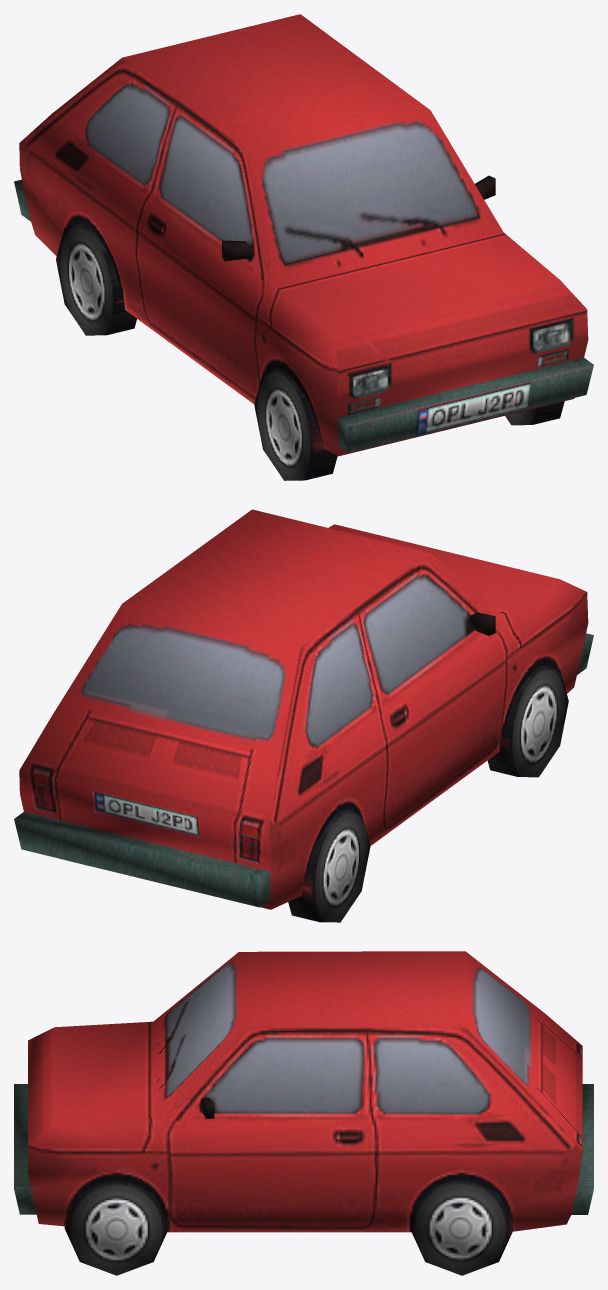
The model's file is fiat_126_psx_style_-_free_download.glb.
The picture shows the model from 3 angles, top to bottom: view 1: azimuth 30°, elevation 25°; view 2: azimuth 150°, elevation 25°; view 3: azimuth 270°, elevation 25°; orthographic projection. The views are drawn at different scales.
Visible parts, largest first — view 1: Object_3, Object_2; view 2: Object_3, Object_2; view 3: Object_2, Object_3.
Part boxes in pixels (box(x1,y1,x2,y2)): Object_3: box(14, 14, 593, 456); Object_2: box(14, 58, 564, 480); Object_3: box(14, 509, 593, 909); Object_2: box(260, 553, 593, 922); Object_2: box(14, 1027, 593, 1275); Object_3: box(14, 951, 593, 1188).
Bounding box in the file's own units: 2.91 × 2.74 × 6.19.
Materials: 2 (2 with a texture image).
